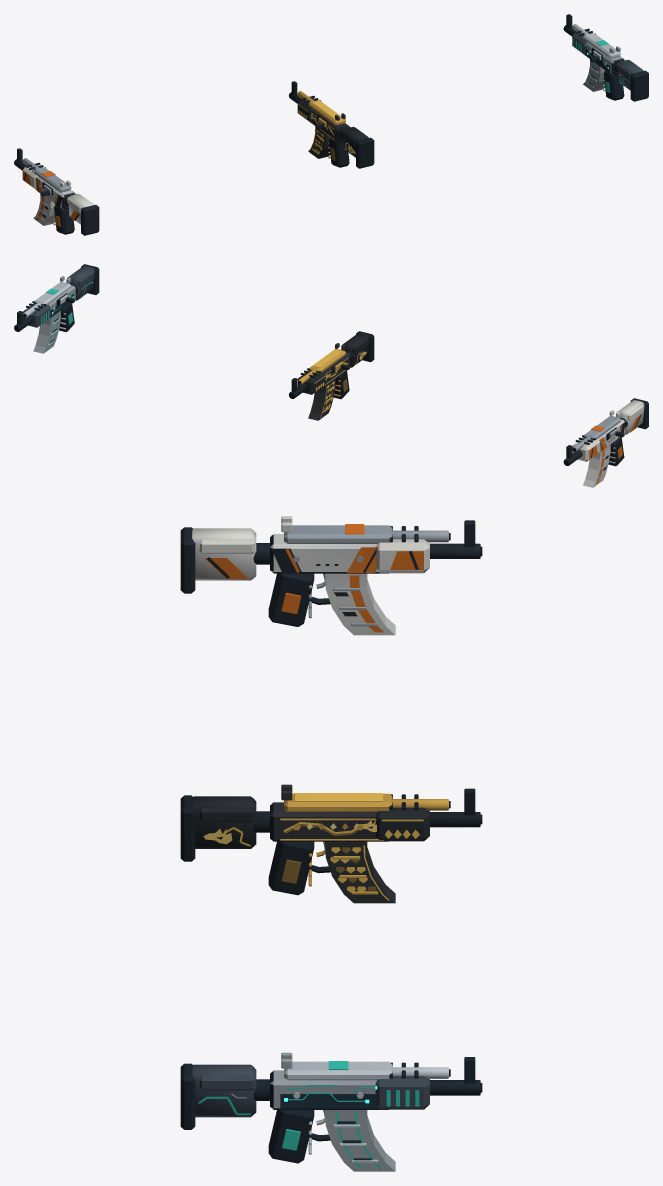
The model's file is KalashSkins.glb.
3 views of the same model, one above another, from view 1: azimuth 30°, elevation 25°; view 2: azimuth 150°, elevation 25°; view 3: azimuth 270°, elevation 25° (orthographic). The views are drawn at different scales.
Visible parts, largest first — view 1: Kalash_GoldenDragon__Main, Kalash_Asiimov__Main, Kalash_Cyberpunk__Main, Kalash_Asiimov__Stock, Kalash_GoldenDragon__Stock, Kalash_Cyberpunk__Stock, Kalash_Asiimov__Magazine, Kalash_GoldenDragon__Magazine, Kalash_Cyberpunk__Magazine; view 2: Kalash_Asiimov__Main, Kalash_GoldenDragon__Main, Kalash_Cyberpunk__Main, Kalash_GoldenDragon__Stock, Kalash_Cyberpunk__Stock, Kalash_Asiimov__Stock, Kalash_GoldenDragon__Magazine, Kalash_Asiimov__Magazine, Kalash_Cyberpunk__Magazine; view 3: Kalash_Asiimov__Main, Kalash_GoldenDragon__Main, Kalash_Cyberpunk__Main, Kalash_Cyberpunk__Stock, Kalash_GoldenDragon__Stock, Kalash_Asiimov__Stock, Kalash_GoldenDragon__Magazine, Kalash_Asiimov__Magazine, Kalash_Cyberpunk__Magazine.
Part boxes in pixels (x1,y1,x2,y2): Kalash_GoldenDragon__Main: (289,81,350,167); Kalash_Asiimov__Main: (14,148,75,234); Kalash_Cyberpunk__Main: (563,14,624,100); Kalash_Asiimov__Stock: (65,193,99,235); Kalash_GoldenDragon__Stock: (340,126,374,168); Kalash_Cyberpunk__Stock: (614,59,648,101); Kalash_Asiimov__Magazine: (33,194,55,225); Kalash_GoldenDragon__Magazine: (308,128,330,158); Kalash_Cyberpunk__Magazine: (583,61,604,91); Kalash_Asiimov__Main: (563,410,625,466); Kalash_GoldenDragon__Main: (289,343,350,399); Kalash_Cyberpunk__Main: (14,276,75,332); Kalash_GoldenDragon__Stock: (341,331,374,367); Kalash_Cyberpunk__Stock: (67,264,99,300); Kalash_Asiimov__Stock: (616,398,648,434); Kalash_GoldenDragon__Magazine: (308,377,335,420); Kalash_Asiimov__Magazine: (583,444,610,487); Kalash_Cyberpunk__Magazine: (33,310,60,353); Kalash_Asiimov__Main: (268,516,482,626); Kalash_GoldenDragon__Main: (268,784,482,895); Kalash_Cyberpunk__Main: (268,1052,482,1163); Kalash_Cyberpunk__Stock: (180,1063,269,1129); Kalash_GoldenDragon__Stock: (180,795,269,861); Kalash_Asiimov__Stock: (180,527,269,593); Kalash_GoldenDragon__Magazine: (325,841,395,903); Kalash_Asiimov__Magazine: (325,573,395,635); Kalash_Cyberpunk__Magazine: (325,1110,395,1171).
Bounding box in the file's own units: 14.64 × 1.34 × 3.33.
